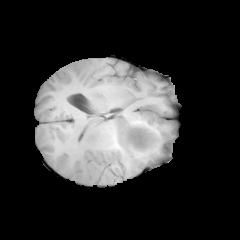glioma: (105, 106, 176, 160)
